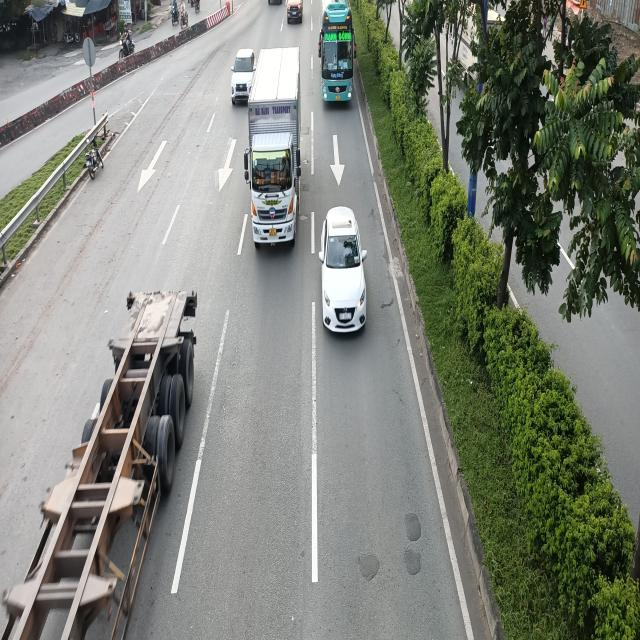car: (319, 207, 368, 334), (229, 49, 255, 107)
coach: (320, 1, 356, 107)
container: (3, 283, 198, 639)
truck: (244, 45, 303, 246)
